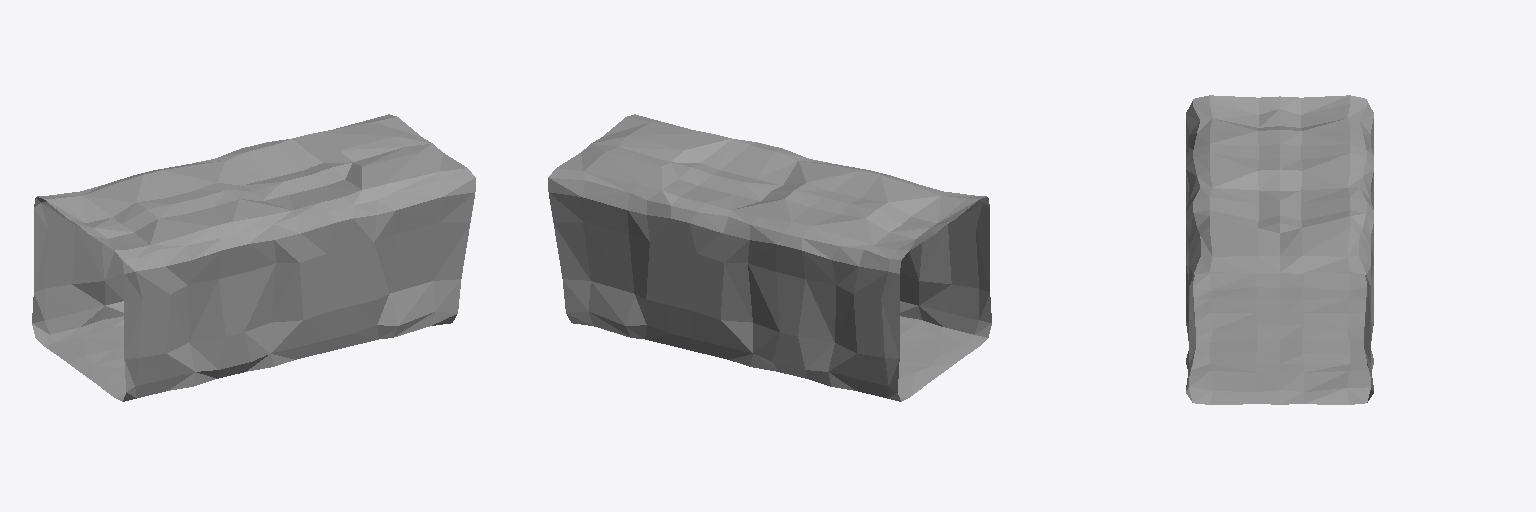
Rendered from Sharft_Down.obj.
3 views of the same model, side by side, from view 1: azimuth 30°, elevation 25°; view 2: azimuth 150°, elevation 25°; view 3: azimuth 270°, elevation 25° (orthographic).
Visible parts, largest first — view 1: Sharft_Down_Sharft_Straight.010; view 2: Sharft_Down_Sharft_Straight.010; view 3: Sharft_Down_Sharft_Straight.010.
Boxes of the visible parts, x1,y1,x2,y2 form: Sharft_Down_Sharft_Straight.010: [32, 114, 475, 401]; Sharft_Down_Sharft_Straight.010: [548, 114, 991, 401]; Sharft_Down_Sharft_Straight.010: [1186, 95, 1373, 404].
Bounding box in the file's own units: 6.38 × 2.57 × 2.95.